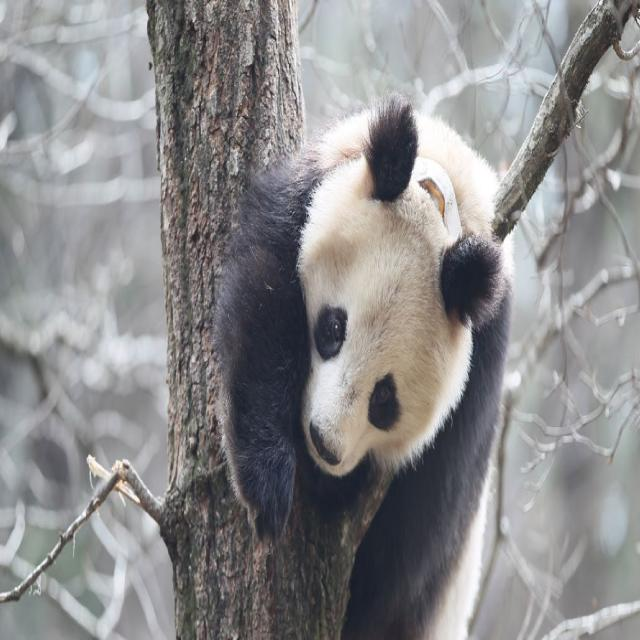Panda: (210, 70, 509, 640)
